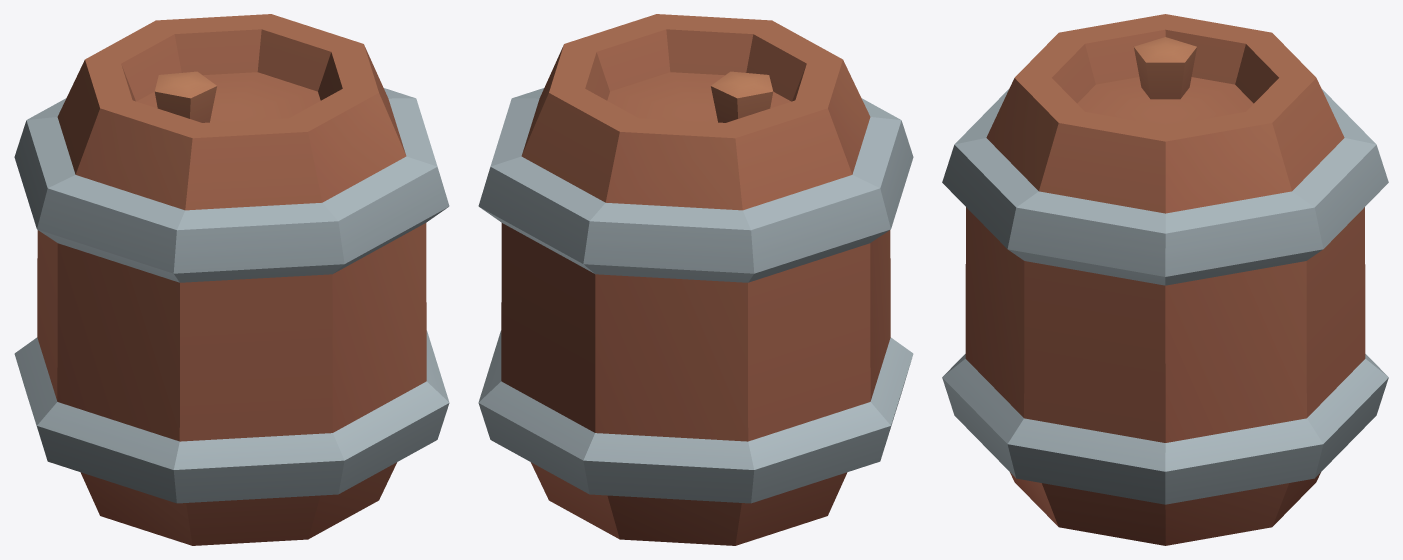
File: barrel.fbx
3 views of the same model, side by side, from view 1: azimuth 30°, elevation 25°; view 2: azimuth 150°, elevation 25°; view 3: azimuth 270°, elevation 25° (orthographic).
Visible parts, largest first — view 1: barrel_small; view 2: barrel_small; view 3: barrel_small.
Boxes of the visible parts, <box> form: barrel_small: <box>14,14,449,545</box>; barrel_small: <box>478,14,913,545</box>; barrel_small: <box>942,14,1388,545</box>.
Size of the model in its own units: 100 by 102 by 100.
Materials: 1 (1 with a texture image).
